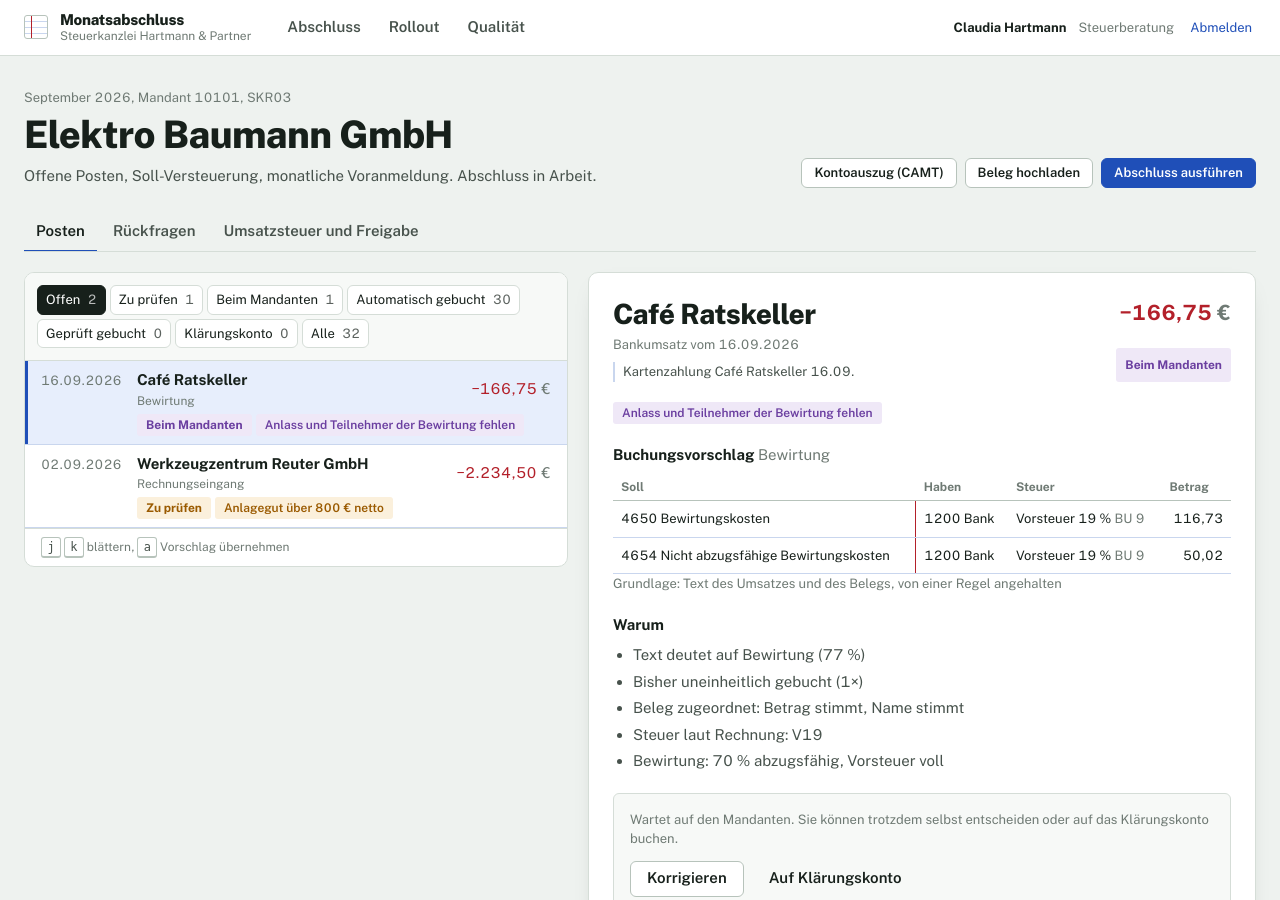
Test case: working through a client's month › parks a payment the client will not explain
Click the button "Auf Klärungskonto" at [835, 879], box 752,861 -> 918,897
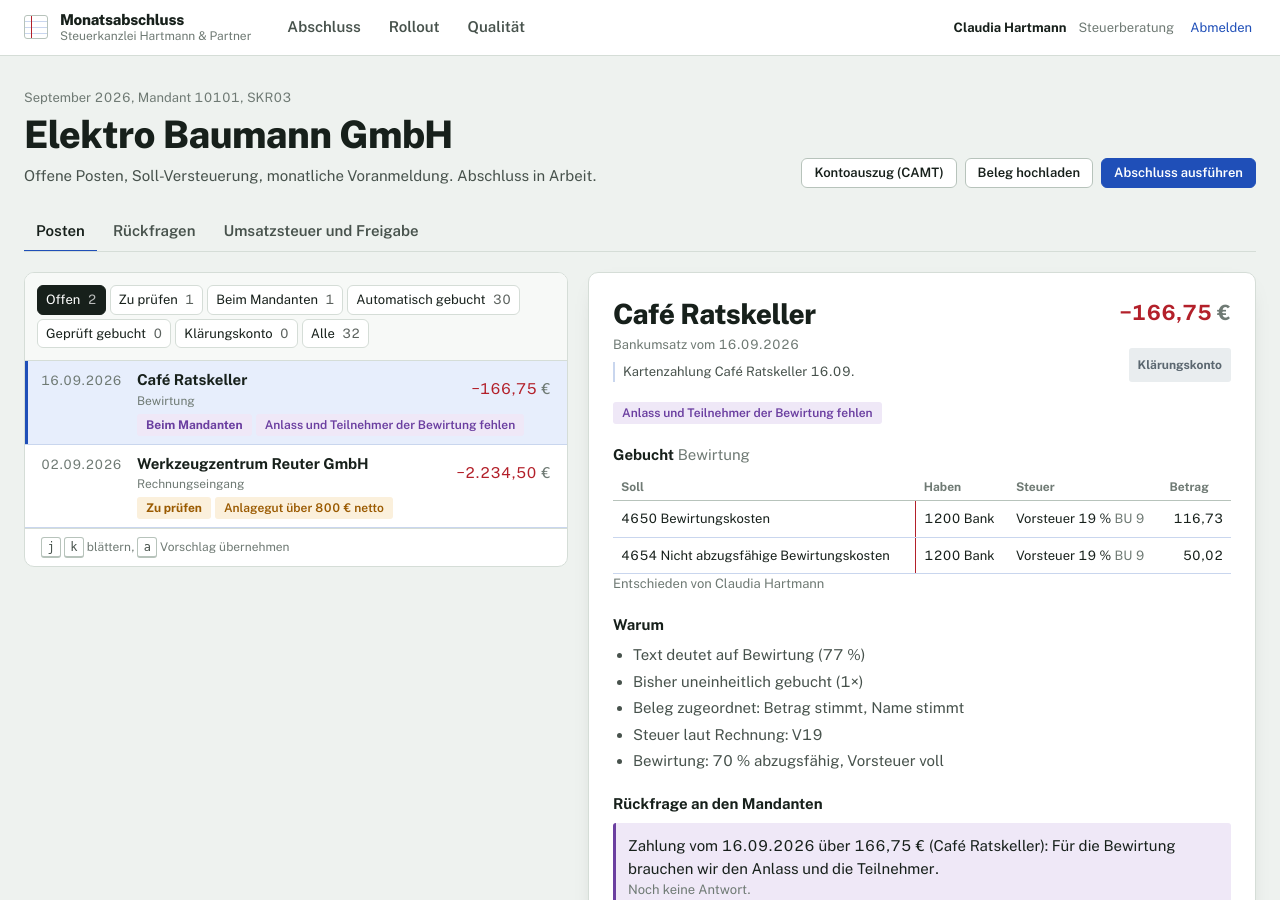
Check: the text "Entschieden von Claudia Hartmann" is shown, box 613,576 -> 824,591
